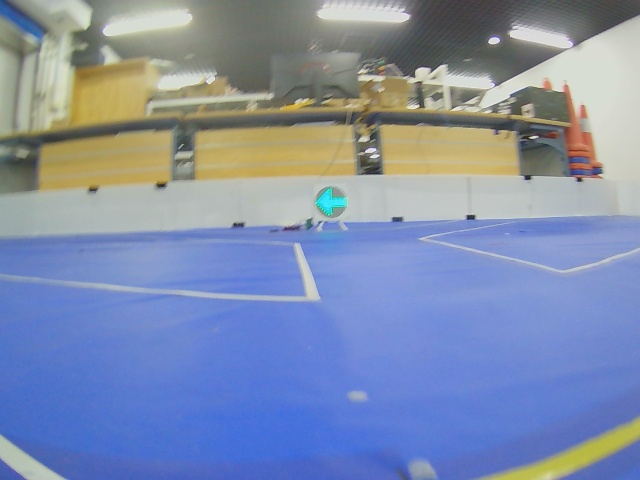left_green: (315, 187, 348, 218)
